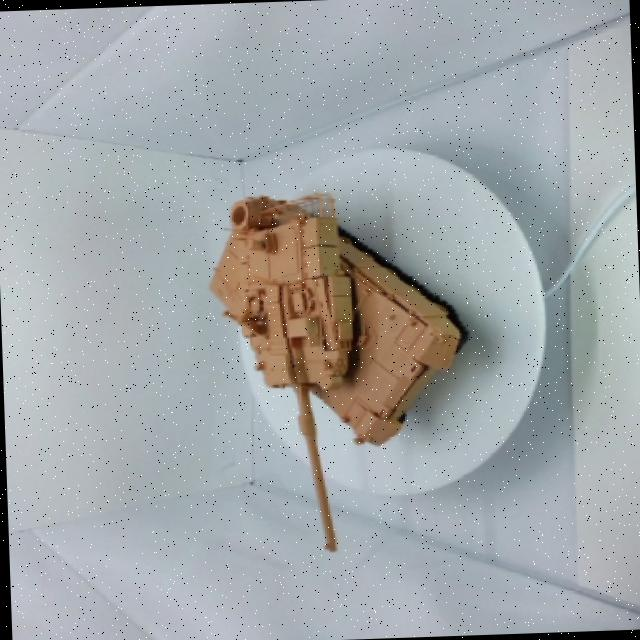korea tank: (174, 168, 498, 571)
